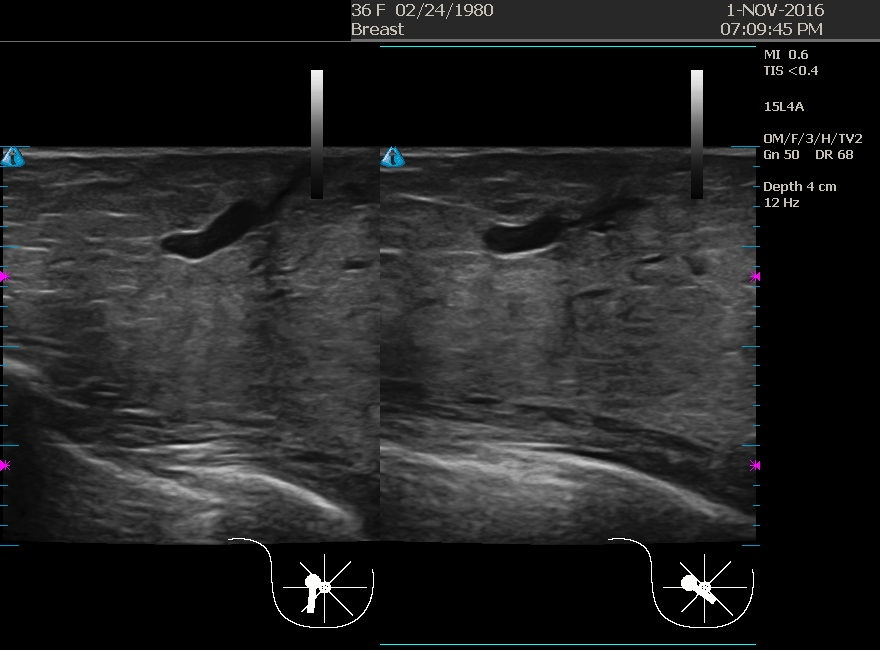BIRADS_2: (427, 159, 627, 359)
BIRADS_3: (99, 161, 299, 361)
